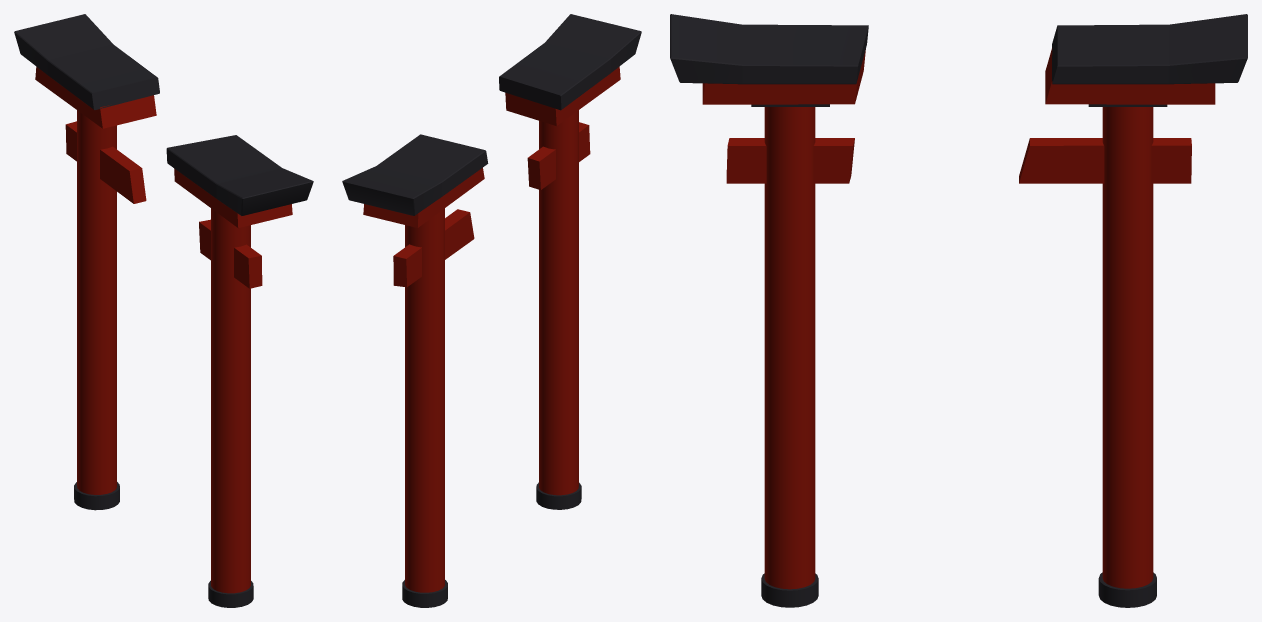
Rendered from column2.fbx.
The picture shows the model from 3 angles, left to right: view 1: azimuth 30°, elevation 25°; view 2: azimuth 150°, elevation 25°; view 3: azimuth 270°, elevation 25°; orthographic projection. The views are drawn at different scales.
Visible parts, largest first — view 1: column2; view 2: column2; view 3: column2.
Part boxes in pixels (x1,y1,x2,y2): column2: (14, 14, 313, 607); column2: (342, 14, 641, 607); column2: (670, 14, 1247, 607).
Size of the model in its own units: 200 by 1180 by 1103.
